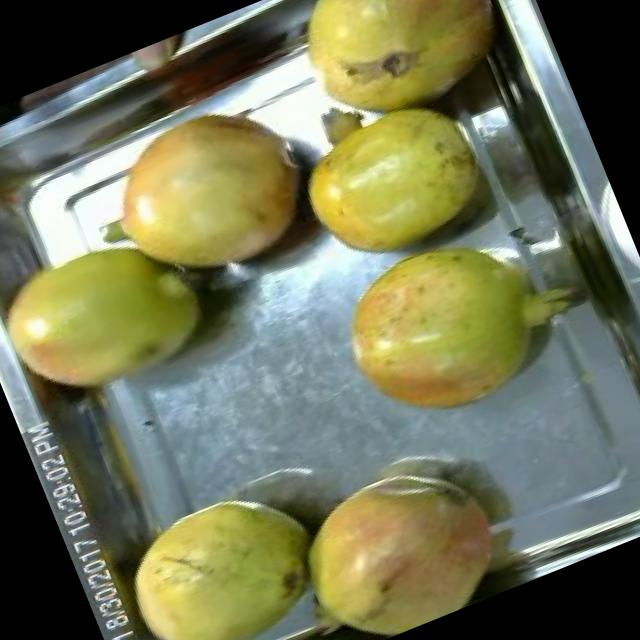fruit: (305, 185, 618, 460), (64, 68, 341, 322), (253, 413, 547, 640), (0, 184, 245, 439), (267, 61, 514, 285), (94, 458, 349, 640), (260, 0, 538, 158)
